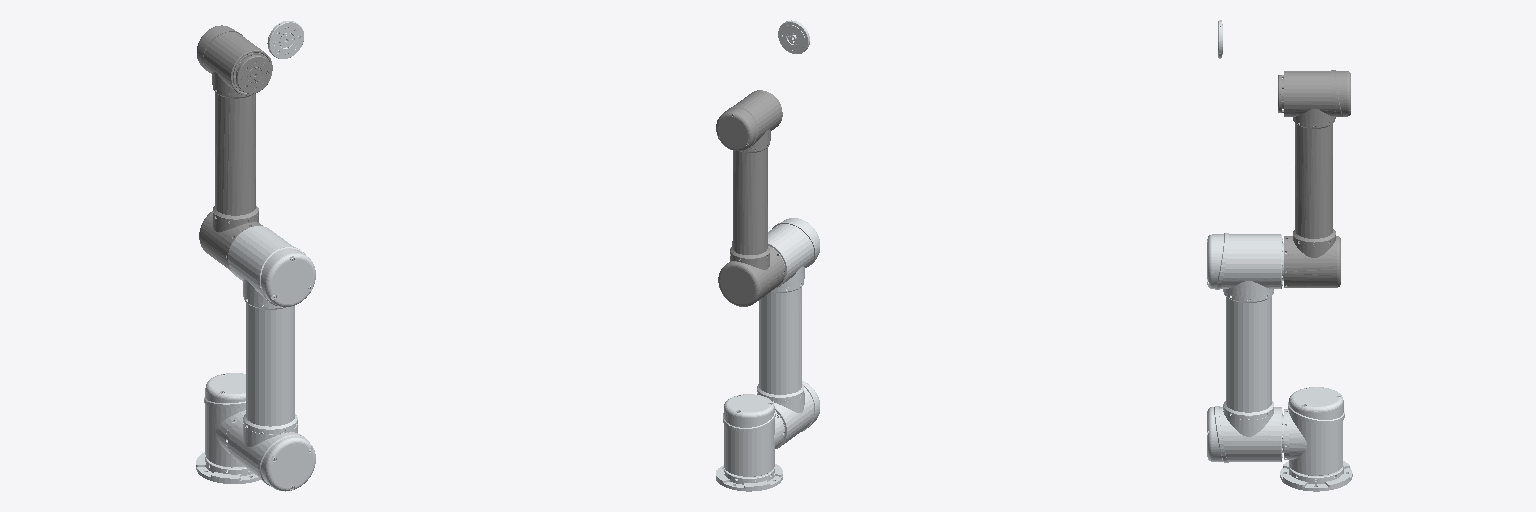
The robot description file, URDF, robot "GSC_6dof_initial_robot":
<?xml version="1.0" encoding="utf-8"?>
<!-- This URDF was automatically created by SolidWorks to URDF Exporter! Originally created by [author] ([email redacted]) 
     Commit Version: 1.5.1-0-g916b5db  Build Version: 1.5.7152.31018
     For more information, please see http://wiki.ros.org/sw_urdf_exporter -->
<robot
  name="GSC_6dof_initial_robot">
  <link
    name="base_link">
    <inertial>
      <origin
        xyz="-2.61177968803165E-10 1.10836536810847E-09 0.00842758262058745"
        rpy="0 0 0" />
      <mass
        value="0.582285408462786" />
      <inertia
        ixx="0.00114248548303506"
        ixy="1.77102209808692E-11"
        ixz="-1.16651932498346E-11"
        iyy="0.0011424854745287"
        iyz="-2.03737865797445E-11"
        izz="0.00224223516153538" />
    </inertial>
    <visual>
      <origin
        xyz="0 0 0"
        rpy="0 0 0" />
      <geometry>
        <mesh
          filename="package://GSC_6dof_initial_robot/meshes/base_link.STL" />
      </geometry>
      <material
        name="">
        <color
          rgba="0.898039215686275 0.917647058823529 0.929411764705882 1" />
      </material>
    </visual>
    <collision>
      <origin
        xyz="0 0 0"
        rpy="0 0 0" />
      <geometry>
        <mesh
          filename="package://GSC_6dof_initial_robot/meshes/base_link.STL" />
      </geometry>
    </collision>
  </link>
  <link
    name="link_1">
    <inertial>
      <origin
        xyz="1.3384E-06 -0.0049524 -0.024551"
        rpy="0 0 0" />
      <mass
        value="2.9258" />
      <inertia
        ixx="0.0092637"
        ixy="1.871E-07"
        ixz="-2.8798E-08"
        iyy="0.0089789"
        iyz="0.00035176"
        izz="0.007138" />
    </inertial>
    <visual>
      <origin
        xyz="0 0 0"
        rpy="0 0 0" />
      <geometry>
        <mesh
          filename="package://GSC_6dof_initial_robot/meshes/link_1.STL" />
      </geometry>
      <material
        name="">
        <color
          rgba="0.89804 0.91765 0.92941 1" />
      </material>
    </visual>
    <collision>
      <origin
        xyz="0 0 0"
        rpy="0 0 0" />
      <geometry>
        <mesh
          filename="package://GSC_6dof_initial_robot/meshes/link_1.STL" />
      </geometry>
    </collision>
  </link>
  <joint
    name="joint_1"
    type="revolute">
    <origin
      xyz="0 0 0.103"
      rpy="0 0 0" />
    <parent
      link="base_link" />
    <child
      link="link_1" />
    <axis
      xyz="0 0 1" />
    <limit
      lower="-3.14"
      upper="3.14"
      effort="150"
      velocity="3" />
    <safety_controller
      k_velocity="0" />
  </joint>
  <link
    name="link_2">
    <inertial>
      <origin
        xyz="0.213 -4.2737E-13 0.13086"
        rpy="0 0 0" />
      <mass
        value="7.134" />
      <inertia
        ixx="0.021752"
        ixy="1.2551E-06"
        ixz="-5.6607E-14"
        iyy="0.2839"
        iyz="-2.9872E-14"
        izz="0.27902" />
    </inertial>
    <visual>
      <origin
        xyz="0 0 0"
        rpy="0 0 0" />
      <geometry>
        <mesh
          filename="package://GSC_6dof_initial_robot/meshes/link_2.STL" />
      </geometry>
      <material
        name="">
        <color
          rgba="0.89804 0.91765 0.92941 1" />
      </material>
    </visual>
    <collision>
      <origin
        xyz="0 0 0"
        rpy="0 0 0" />
      <geometry>
        <mesh
          filename="package://GSC_6dof_initial_robot/meshes/link_2.STL" />
      </geometry>
    </collision>
  </link>
  <joint
    name="joint_2"
    type="revolute">
    <origin
      xyz="0 0 0"
      rpy="1.5708 -1.5708 0" />
    <parent
      link="link_1" />
    <child
      link="link_2" />
    <axis
      xyz="0 0 1" />
    <limit
      lower="-3.14"
      upper="3.14"
      effort="150"
      velocity="3" />
    <safety_controller
      k_velocity="0" />
  </joint>
  <link
    name="link_3">
    <inertial>
      <origin
        xyz="0.25363 2.6591E-07 0.013039"
        rpy="0 0 0" />
      <mass
        value="3.5587" />
      <inertia
        ixx="0.0091511"
        ixy="-1.8597E-07"
        ixz="-0.0068641"
        iyy="0.11315"
        iyz="-1.1116E-07"
        izz="0.11107" />
    </inertial>
    <visual>
      <origin
        xyz="0 0 0"
        rpy="0 0 0" />
      <geometry>
        <mesh
          filename="package://GSC_6dof_initial_robot/meshes/link_3.STL" />
      </geometry>
      <material
        name="">
        <color
          rgba="0.66667 0.66667 0.66667 1" />
      </material>
    </visual>
    <collision>
      <origin
        xyz="0 0 0"
        rpy="0 0 0" />
      <geometry>
        <mesh
          filename="package://GSC_6dof_initial_robot/meshes/link_3.STL" />
      </geometry>
    </collision>
  </link>
  <joint
    name="joint_3"
    type="revolute">
    <origin
      xyz="0.426 0 0"
      rpy="0 0 0" />
    <parent
      link="link_2" />
    <child
      link="link_3" />
    <axis
      xyz="0 0 1" />
    <limit
      lower="-3.14"
      upper="3.14"
      effort="150"
      velocity="3" />
    <safety_controller
      k_velocity="0" />
  </joint>
  <link
    name="link_4">
    <inertial>
      <origin
        xyz="-5.4535E-07 -0.021096 -0.0047608"
        rpy="0 0 0" />
      <mass
        value="1.6688" />
      <inertia
        ixx="0.0044122"
        ixy="-8.8727E-08"
        ixz="6.9423E-08"
        iyy="0.0030144"
        iyz="0.00016404"
        izz="0.0042914" />
    </inertial>
    <visual>
      <origin
        xyz="0 0 0"
        rpy="0 0 0" />
      <geometry>
        <mesh
          filename="package://GSC_6dof_initial_robot/meshes/link_4.STL" />
      </geometry>
      <material
        name="">
        <color
          rgba="0.89804 0.91765 0.92941 1" />
      </material>
    </visual>
    <collision>
      <origin
        xyz="0 0 0"
        rpy="0 0 0" />
      <geometry>
        <mesh
          filename="package://GSC_6dof_initial_robot/meshes/link_4.STL" />
      </geometry>
    </collision>
  </link>
  <joint
    name="joint_4"
    type="revolute">
    <origin
      xyz="0.414 0 0.1385"
      rpy="0 0 1.5708" />
    <parent
      link="link_3" />
    <child
      link="link_4" />
    <axis
      xyz="0 0 1" />
    <limit
      lower="-3.14"
      upper="3.14"
      effort="50"
      velocity="3" />
    <safety_controller
      k_velocity="0" />
  </joint>
  <link
    name="link_5">
    <inertial>
      <origin
        xyz="6.0717E-07 0.015883 -0.0053082"
        rpy="0 0 0" />
      <mass
        value="1.4967" />
      <inertia
        ixx="0.0038292"
        ixy="-9.3394E-08"
        ixz="-6.9913E-08"
        iyy="0.0028772"
        iyz="-0.00012262"
        izz="0.0037126" />
    </inertial>
    <visual>
      <origin
        xyz="0 0 0"
        rpy="0 0 0" />
      <geometry>
        <mesh
          filename="package://GSC_6dof_initial_robot/meshes/link_5.STL" />
      </geometry>
      <material
        name="">
        <color
          rgba="0.89804 0.91765 0.92941 1" />
      </material>
    </visual>
    <collision>
      <origin
        xyz="0 0 0"
        rpy="0 0 0" />
      <geometry>
        <mesh
          filename="package://GSC_6dof_initial_robot/meshes/link_5.STL" />
      </geometry>
    </collision>
  </link>
  <joint
    name="joint_5"
    type="revolute">
    <origin
      xyz="0 -0.134 0"
      rpy="1.5708 0 0" />
    <parent
      link="link_4" />
    <child
      link="link_5" />
    <axis
      xyz="0 0 1" />
    <limit
      lower="-3.14"
      upper="3.14"
      effort="50"
      velocity="3" />
    <safety_controller
      k_velocity="0" />
  </joint>
  <link
    name="link_6">
    <inertial>
      <origin
        xyz="-1.4008E-08 -9.3958E-09 -0.0050077"
        rpy="0 0 0" />
      <mass
        value="0.14138" />
      <inertia
        ixx="6.5906E-05"
        ixy="-9.2283E-14"
        ixz="-4.4356E-13"
        iyy="6.5906E-05"
        iyz="-3.283E-13"
        izz="0.00012932" />
    </inertial>
    <visual>
      <origin
        xyz="0 0 0"
        rpy="0 0 0" />
      <geometry>
        <mesh
          filename="package://GSC_6dof_initial_robot/meshes/link_6.STL" />
      </geometry>
      <material
        name="">
        <color
          rgba="0.89804 0.91765 0.92941 1" />
      </material>
    </visual>
    <collision>
      <origin
        xyz="0 0 0"
        rpy="0 0 0" />
      <geometry>
        <mesh
          filename="package://GSC_6dof_initial_robot/meshes/link_6.STL" />
      </geometry>
    </collision>
  </link>
  <joint
    name="joiont_6"
    type="revolute">
    <origin
      xyz="0 0.081 0"
      rpy="-1.5708 0 0" />
    <parent
      link="link_5" />
    <child
      link="link_6" />
    <axis
      xyz="0 0 1" />
    <limit
      lower="-3.14"
      upper="3.14"
      effort="50"
      velocity="3" />
    <safety_controller
      k_velocity="0" />
  </joint>
</robot>

--- Render facts (derived) ---
Views: 3 orthographic renders of the robot side by side, from view 1: azimuth 30°, elevation 25°; view 2: azimuth 150°, elevation 25°; view 3: azimuth 270°, elevation 25°.
Model GSC_6dof_initial_robot with 7 links and 6 joints (6 revolute), rooted at base_link, posed all joints at 0.
Visible links, largest first — view 1: link_2, link_3, link_1, link_6, base_link; view 2: link_3, link_2, link_1, base_link, link_6; view 3: link_2, link_3, link_1, base_link.
Boxes of the visible links, x1,y1,x2,y2 form: link_2: (228, 226, 315, 491); link_3: (197, 25, 272, 270); link_1: (204, 373, 245, 467); link_6: (267, 21, 303, 58); base_link: (196, 452, 260, 483); link_3: (716, 90, 784, 306); link_2: (757, 218, 819, 448); link_1: (723, 394, 784, 476); base_link: (716, 464, 782, 491); link_6: (778, 20, 809, 53); link_2: (1207, 233, 1286, 462); link_3: (1278, 70, 1350, 287); link_1: (1284, 387, 1344, 478); base_link: (1280, 461, 1352, 491).
Bounding box of the posed robot: 0.1617 × 0.3242 × 1.12 m (x, y, z).
Meshes: 7 distinct files referenced, 5 mesh visuals loaded (5 binary STL); not drawn: 2 (reference not matched to a file when rendering).